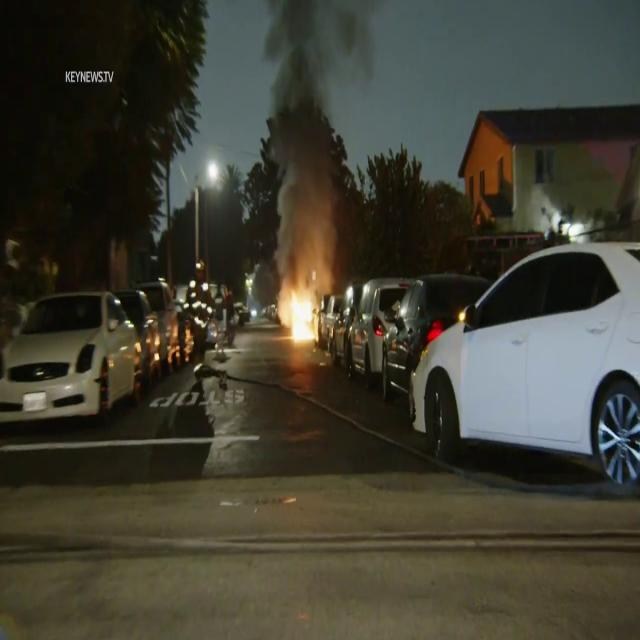Fire: (278, 270, 324, 350)
Smoke: (260, 0, 354, 279)
